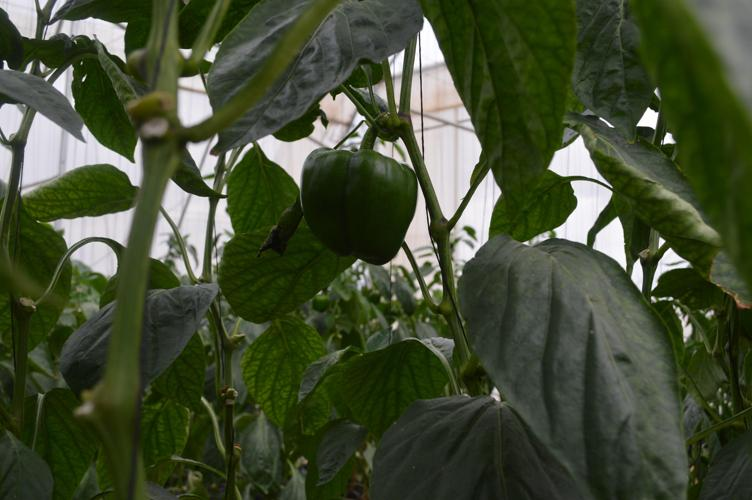BellPepper: (296, 142, 423, 283)
